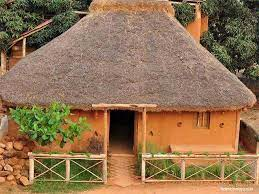Mud House: (4, 3, 254, 172)
